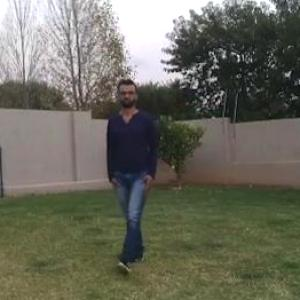follow: (111, 82, 155, 256)
